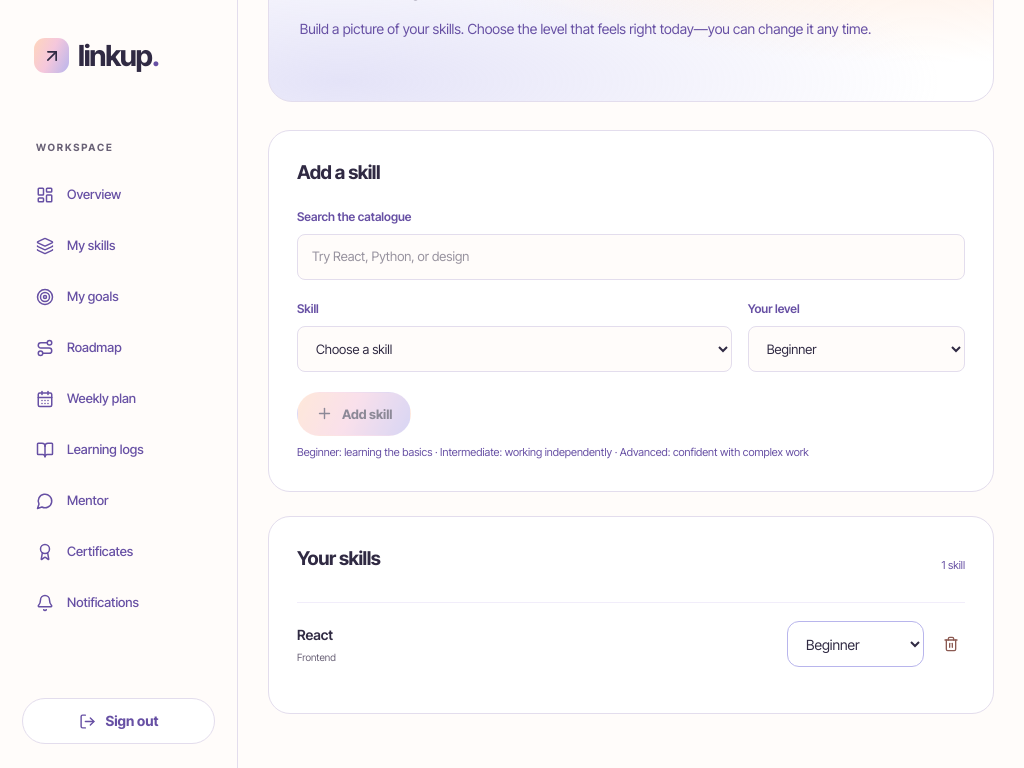
skill profile screen › saves proficiency changes and keeps the stored value after a failure
(page scrolled)
Select "Advanced" in the dropdown named "Level for React": (856, 644) [787,621,924,667]
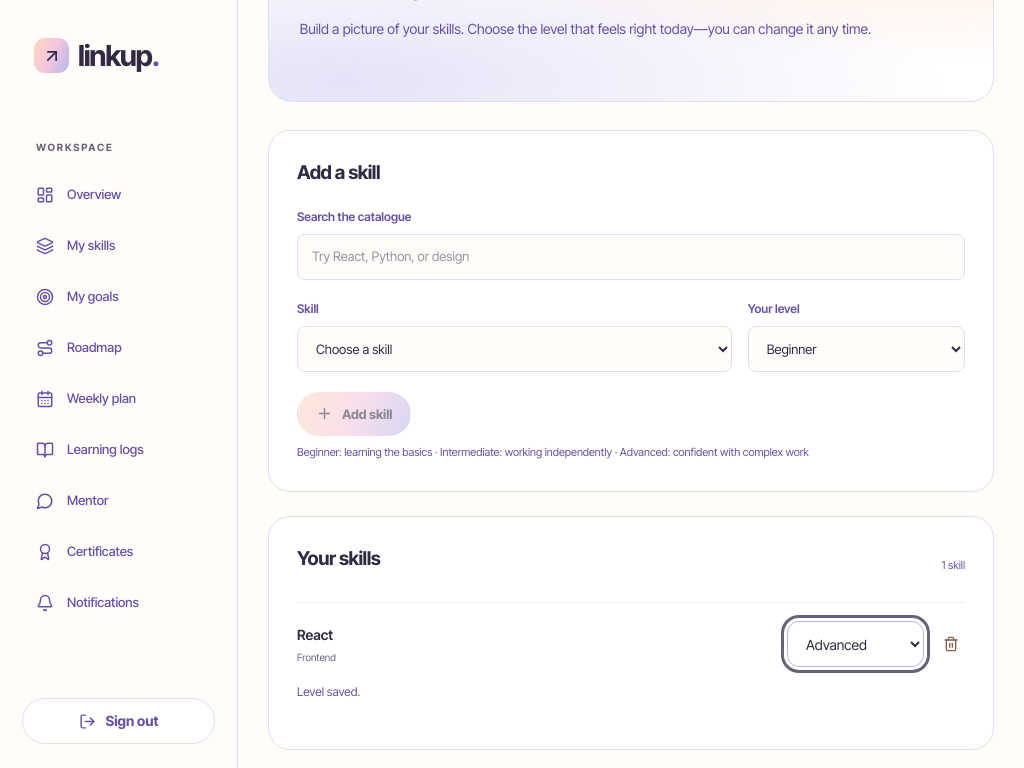
Now the text "Level saved." is shown, box [297,684,360,699]
Select "Beginner" in the dropdown named "Level for React": (856, 644) [787,621,924,667]
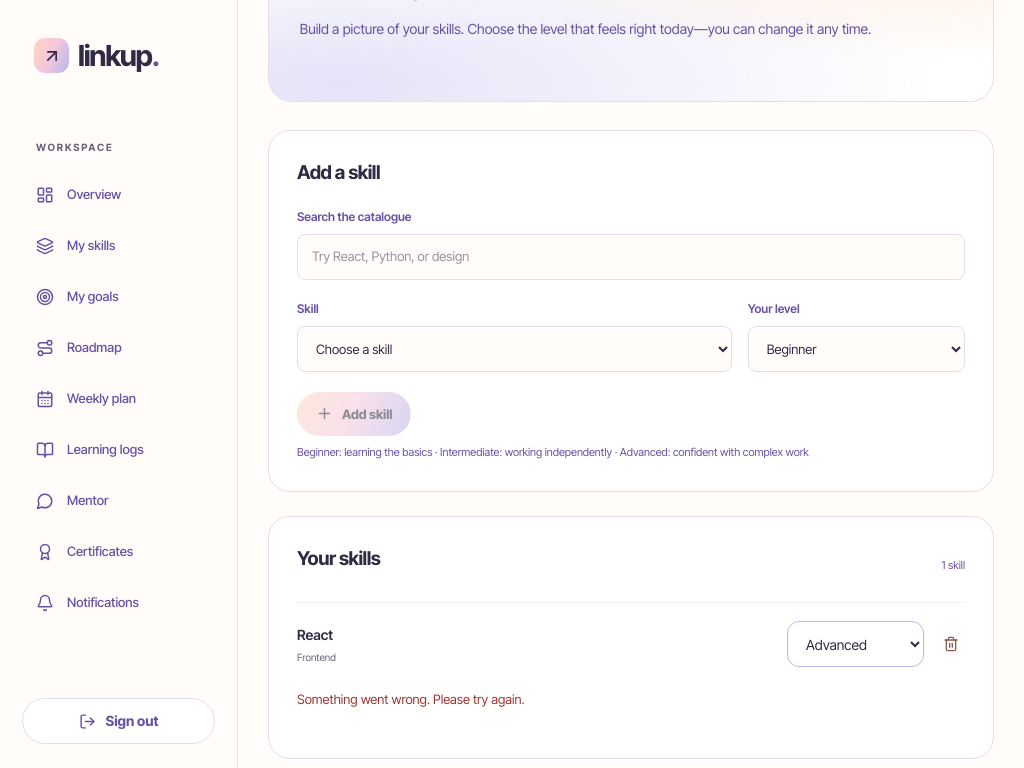
Now the message shows "Something went wrong", box [297,691,524,707]
